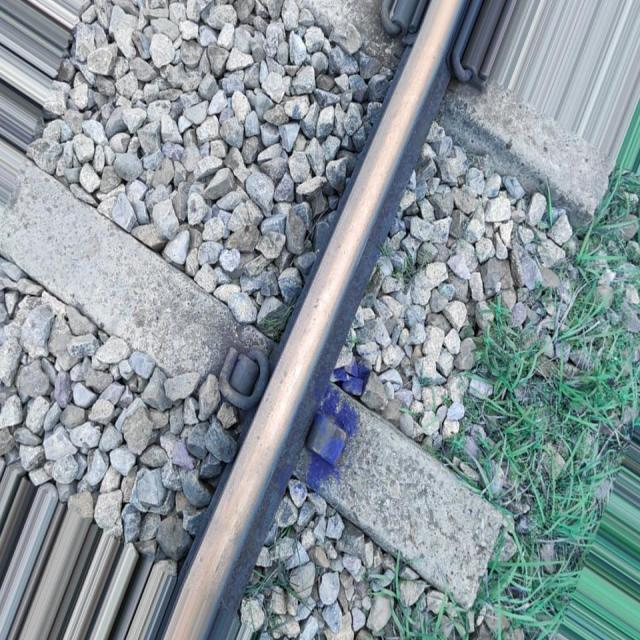Good Fasteners: (219, 348, 269, 414)
Missing Fastener: (310, 412, 349, 475)
